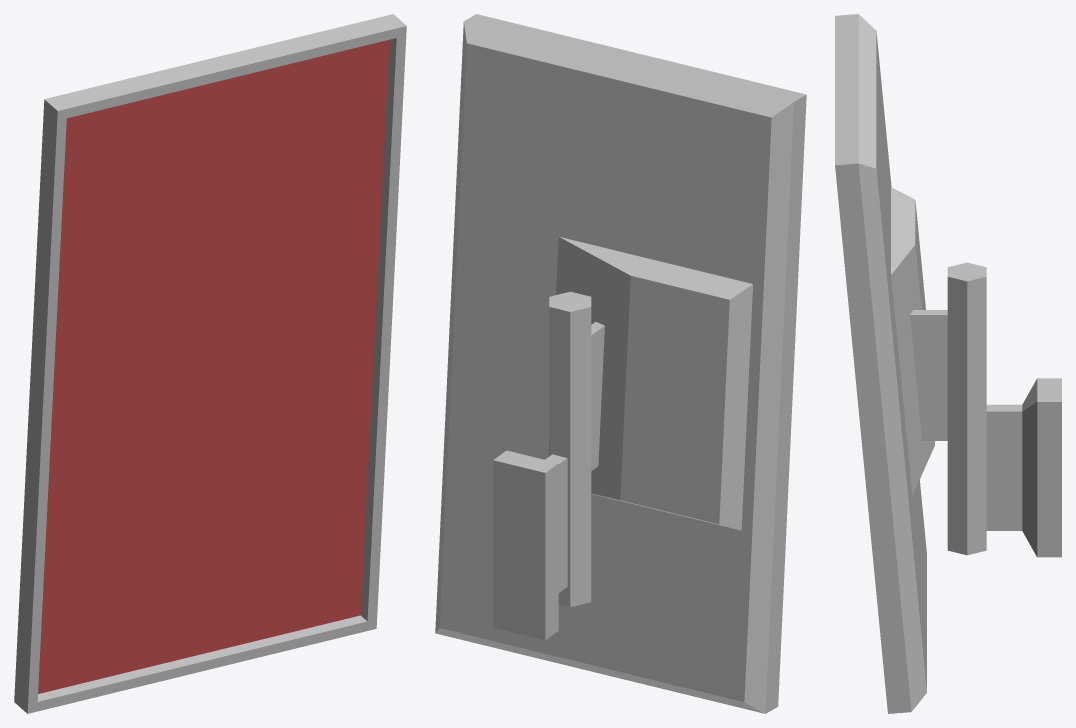
3 renders of one model, left to right at view 1: azimuth 30°, elevation 25°; view 2: azimuth 150°, elevation 25°; view 3: azimuth 270°, elevation 25°, orthographic. The views are drawn at different scales.
Visible parts, largest first — view 1: TV1; view 2: TV1; view 3: TV1.
Part boxes in pixels (x1,y1,x2,y2): TV1: [14, 14, 406, 713]; TV1: [435, 14, 806, 713]; TV1: [835, 14, 1061, 713].
Size of the model in its own units: 53.8 by 92.35 by 34.51.
